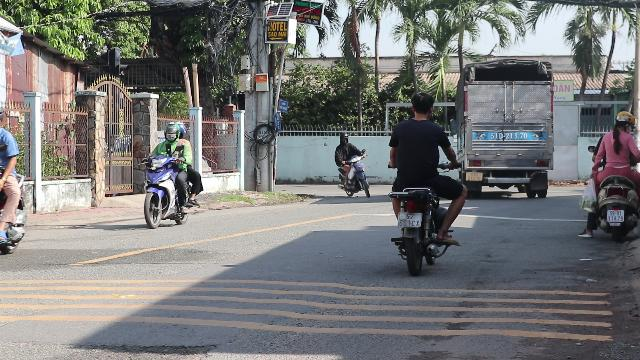helmet: (612, 109, 634, 130), (162, 121, 180, 140)
licenseplate: (399, 213, 421, 227), (608, 210, 624, 222)
motorcyclist: (384, 91, 466, 273), (579, 109, 639, 241), (140, 120, 202, 228)
nohelmet: (410, 92, 434, 118)
